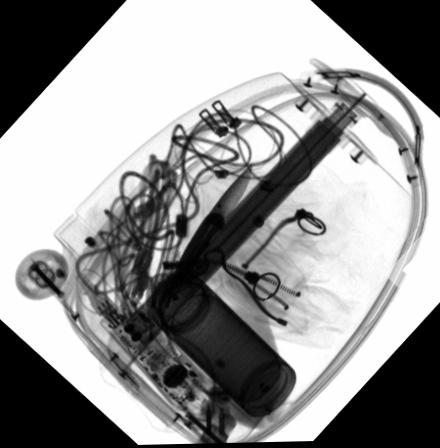Knife: (170, 166, 251, 282)
